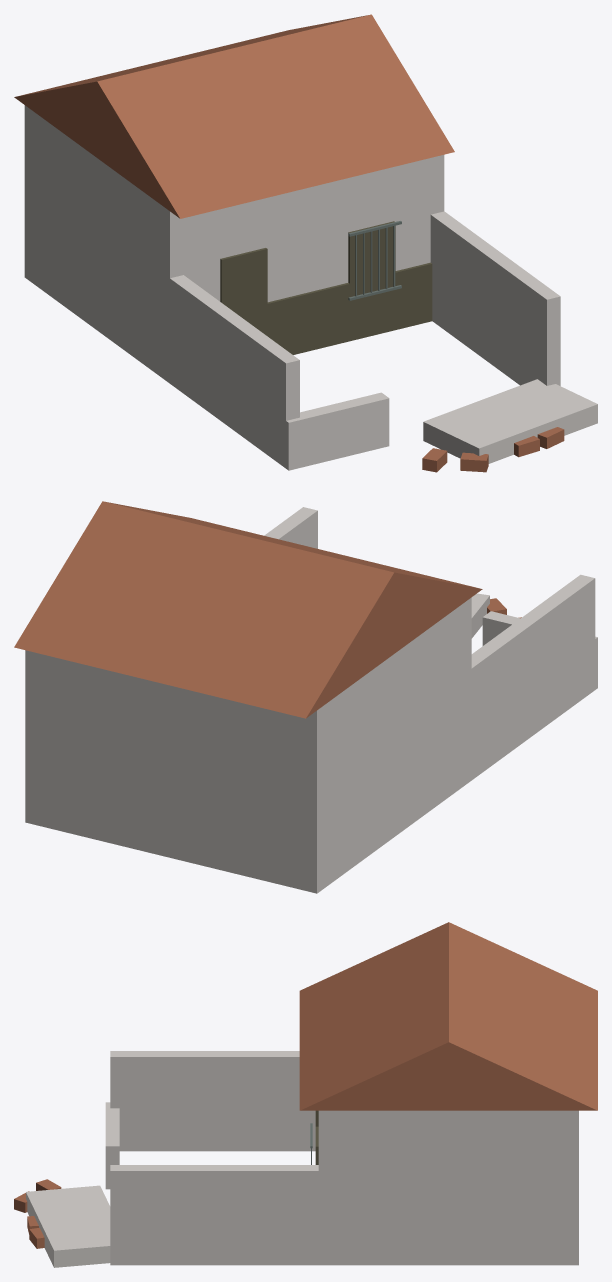
The model's file is SM_CasaPatio_v4_Derruida_LOD0.fbx.
3 renders of one model, top to bottom at view 1: azimuth 30°, elevation 25°; view 2: azimuth 150°, elevation 25°; view 3: azimuth 270°, elevation 25°, orthographic. The views are drawn at different scales.
Visible parts, largest first — view 1: SM_pueblo_valenciano_v19_LOD0; view 2: SM_pueblo_valenciano_v19_LOD0; view 3: SM_pueblo_valenciano_v19_LOD0.
Part boxes in pixels (x1,y1,x2,y2): SM_pueblo_valenciano_v19_LOD0: [14, 14, 597, 472]; SM_pueblo_valenciano_v19_LOD0: [14, 501, 597, 893]; SM_pueblo_valenciano_v19_LOD0: [14, 922, 597, 1267].
Size of the model in its own units: 6.13 by 5.2 by 12.33.
